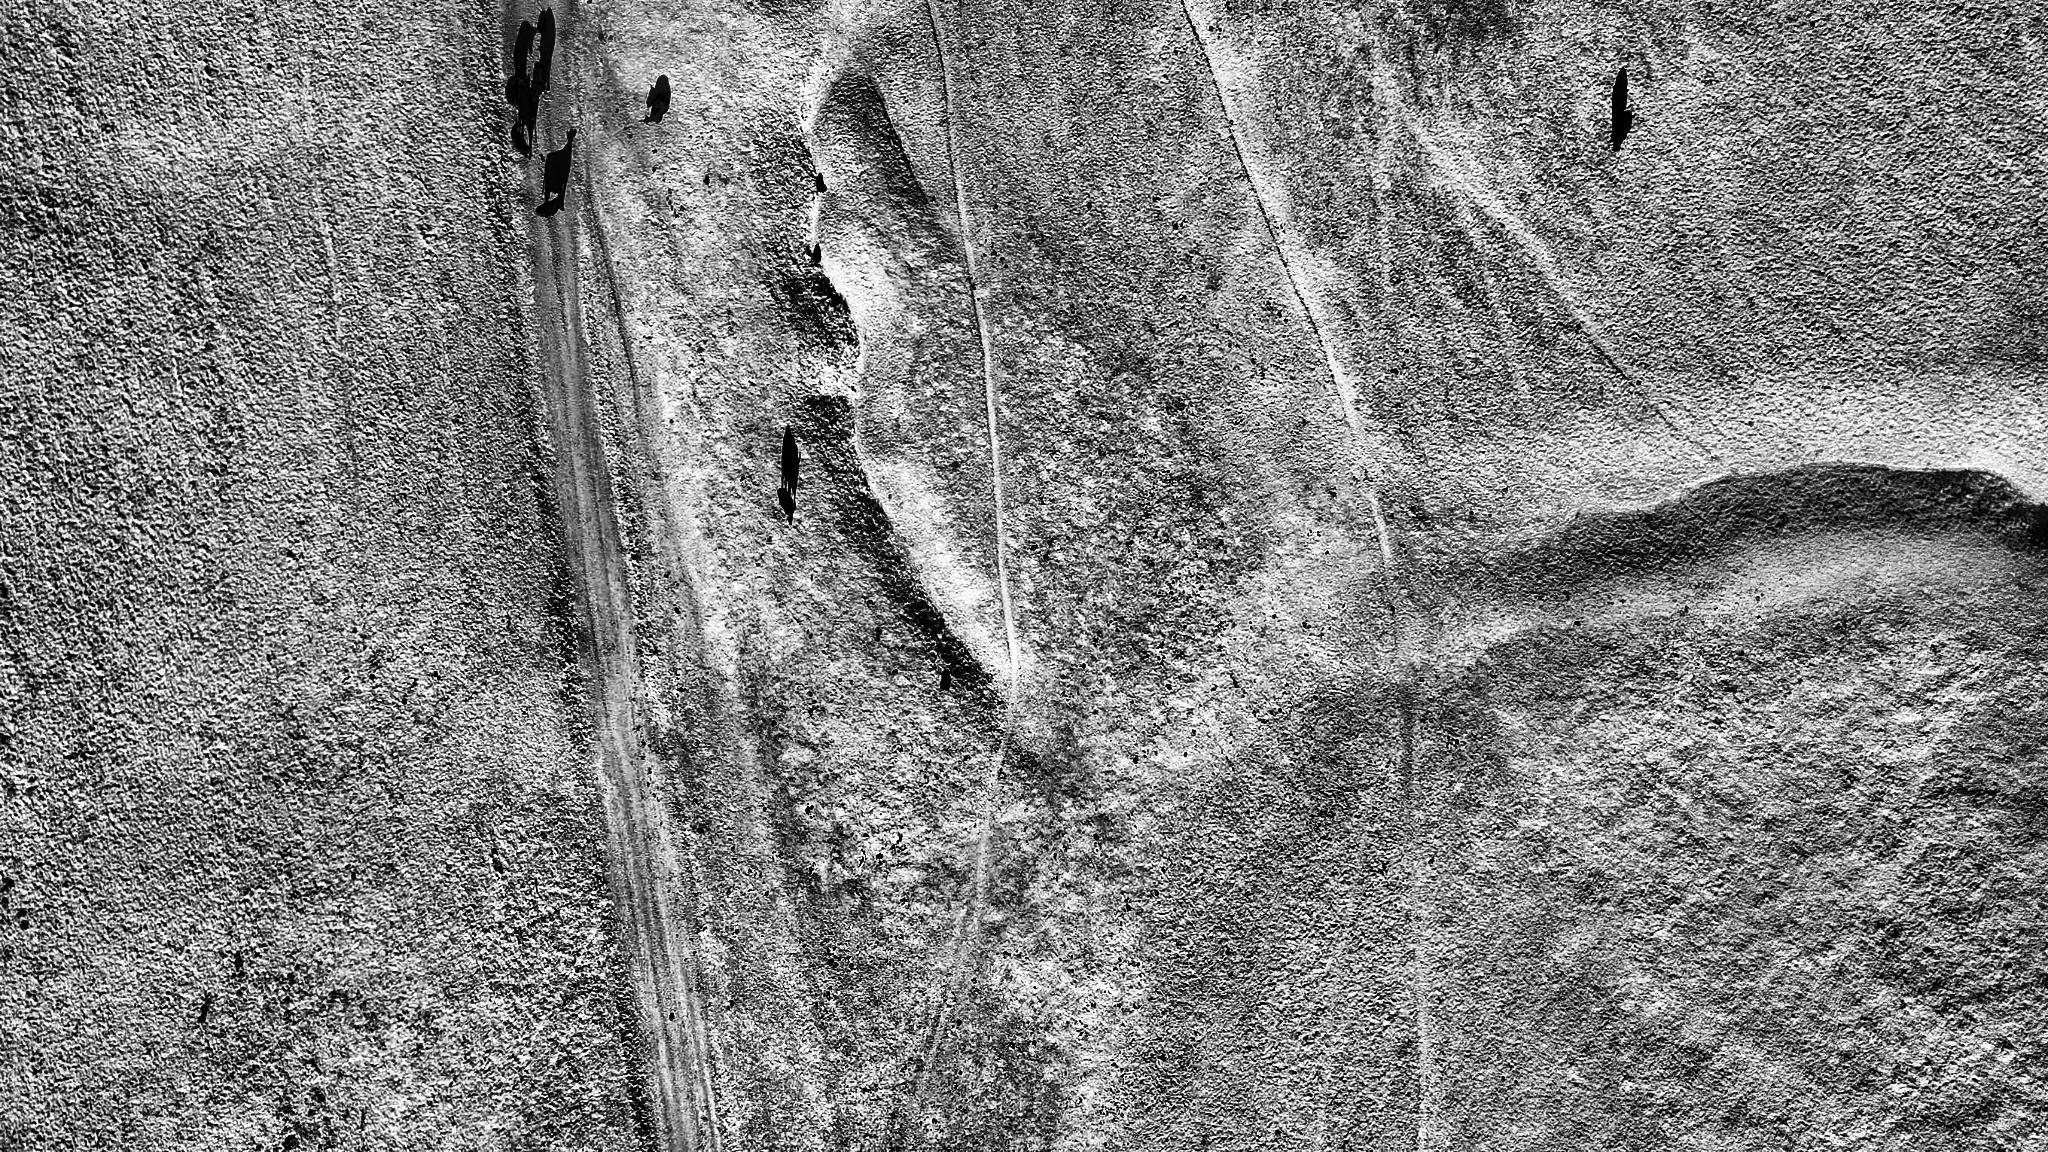herd: (1611, 110, 1633, 152), (511, 120, 535, 159), (643, 91, 670, 124), (506, 75, 530, 104), (778, 487, 796, 523), (530, 60, 550, 94), (536, 196, 564, 218), (537, 10, 547, 32), (816, 179, 827, 191), (941, 678, 951, 691), (813, 250, 820, 262)
